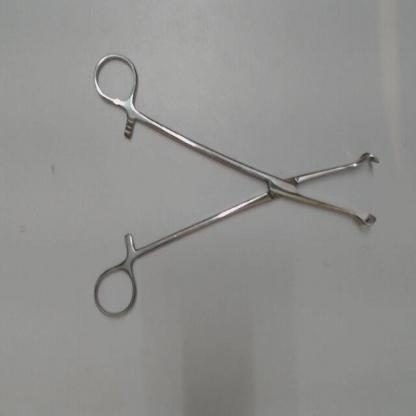8 Babcock Tissue Forceps: (88, 46, 385, 328)
